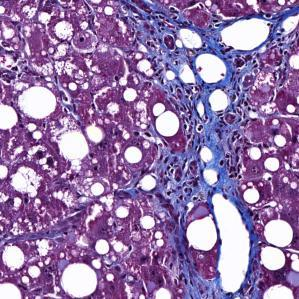fibrosis: (145, 14, 284, 100), (143, 138, 249, 213)
